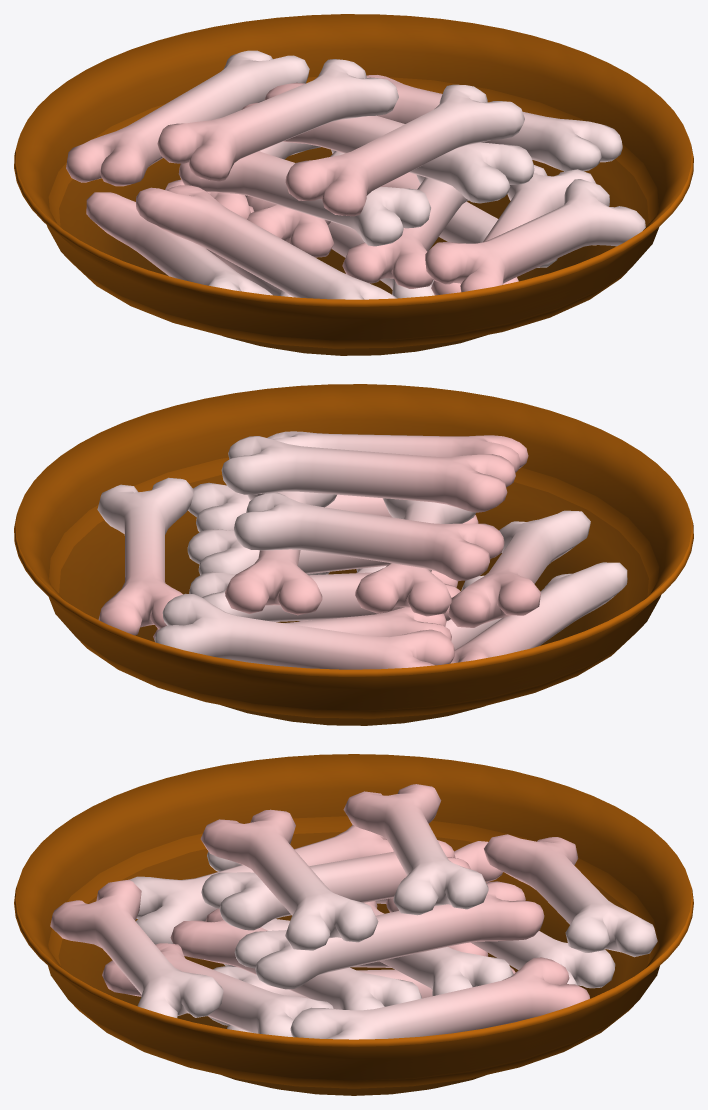
Rendered from bones.glb.
3 views of the same model, one above another, from view 1: azimuth 30°, elevation 25°; view 2: azimuth 150°, elevation 25°; view 3: azimuth 270°, elevation 25° (orthographic).
Parts seen in each view (by area): view 1: plate; view 2: plate; view 3: plate.
Boxes of the visible parts, left/top/right/bottom form: plate: left=14, top=14, right=693, bottom=355; plate: left=14, top=384, right=693, bottom=725; plate: left=14, top=754, right=693, bottom=1095.
Size of what is drawn, in the model's own units: 0.542 by 0.1476 by 0.542.
Materials: 1 (1 with a texture image).
